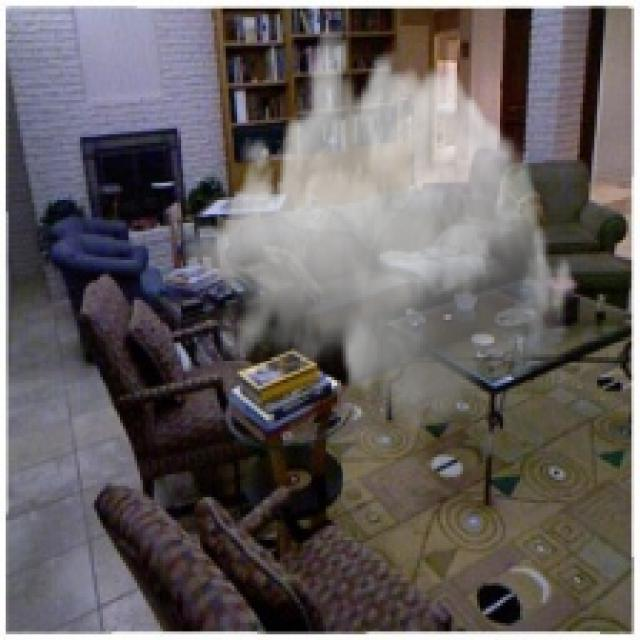smoke: (180, 20, 580, 440)
